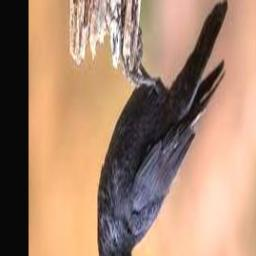Crow: (98, 0, 229, 256)
